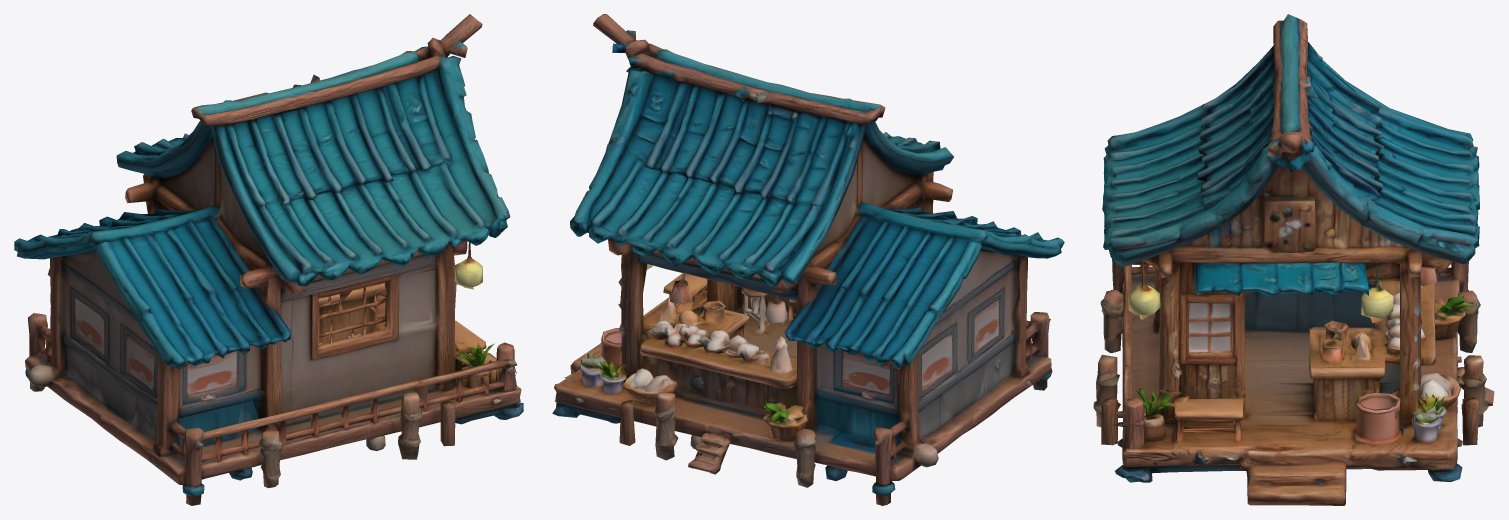
Rendered from harbor_tavern.glb.
3 renders of one model, left to right at view 1: azimuth 30°, elevation 25°; view 2: azimuth 150°, elevation 25°; view 3: azimuth 270°, elevation 25°, orthographic. The views are drawn at different scales.
Visible parts, largest first — view 1: tripo_node_761e6bfd-72f8-4506-9461-947fc812f678; view 2: tripo_node_761e6bfd-72f8-4506-9461-947fc812f678; view 3: tripo_node_761e6bfd-72f8-4506-9461-947fc812f678.
Boxes of the visible parts, <box> form: tripo_node_761e6bfd-72f8-4506-9461-947fc812f678: <box>14,14,523,505</box>; tripo_node_761e6bfd-72f8-4506-9461-947fc812f678: <box>552,14,1064,505</box>; tripo_node_761e6bfd-72f8-4506-9461-947fc812f678: <box>1093,14,1494,505</box>.
Size of the model in its own units: 1 by 0.8284 by 0.8139.
1 material, 1 textured.
